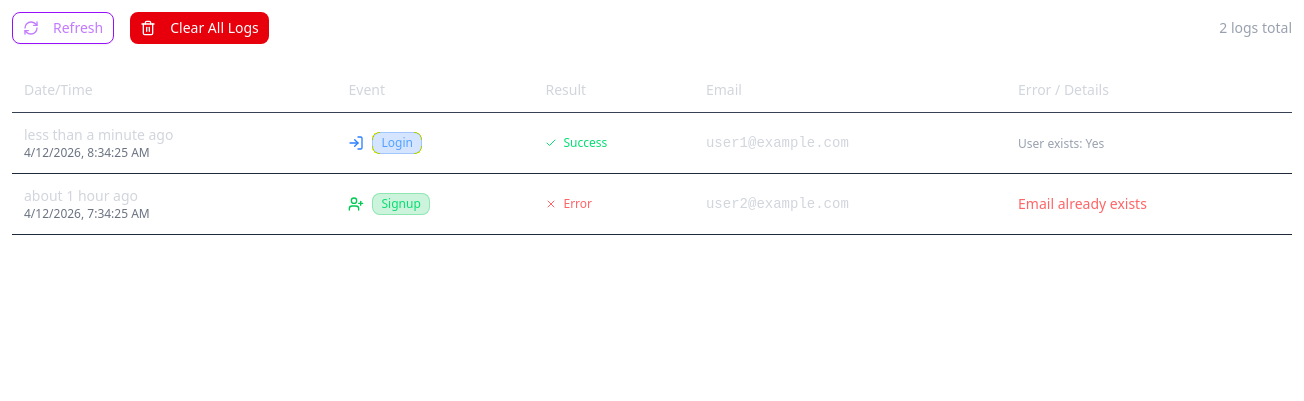
Test: DebugDashboard › should expand and collapse log rows when clicked
This screenshot has width=1304, height=401.
Check: the text "user1@example.com" is shown, box top-left (706, 135), bottom-right (849, 151)
Click the text "user1@example.com" at (652, 143), box top-left (12, 112), bottom-right (1292, 174)
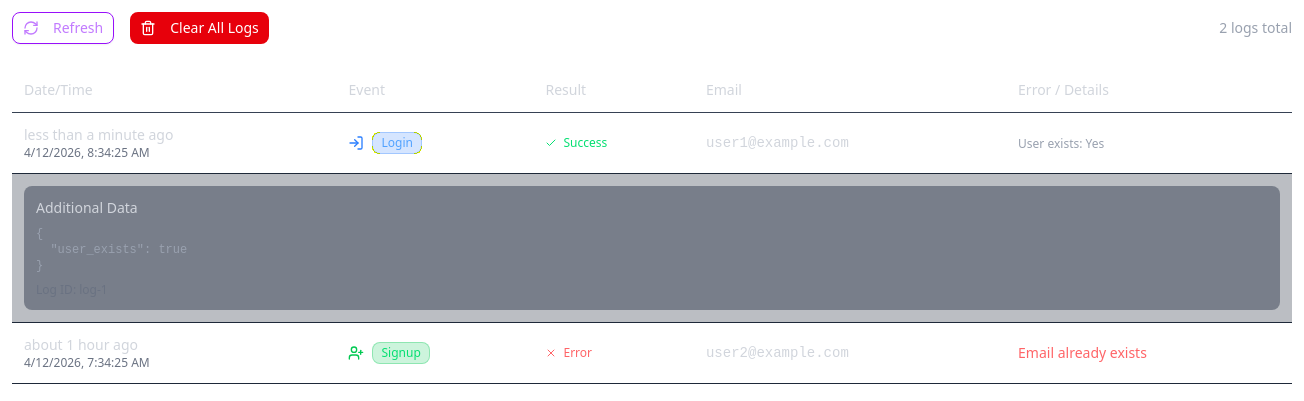
Check: the text "Additional Data" is shown, box top-left (36, 198), bottom-right (138, 217)
Click the text "user1@example.com" at (652, 143), box top-left (12, 112), bottom-right (1292, 174)
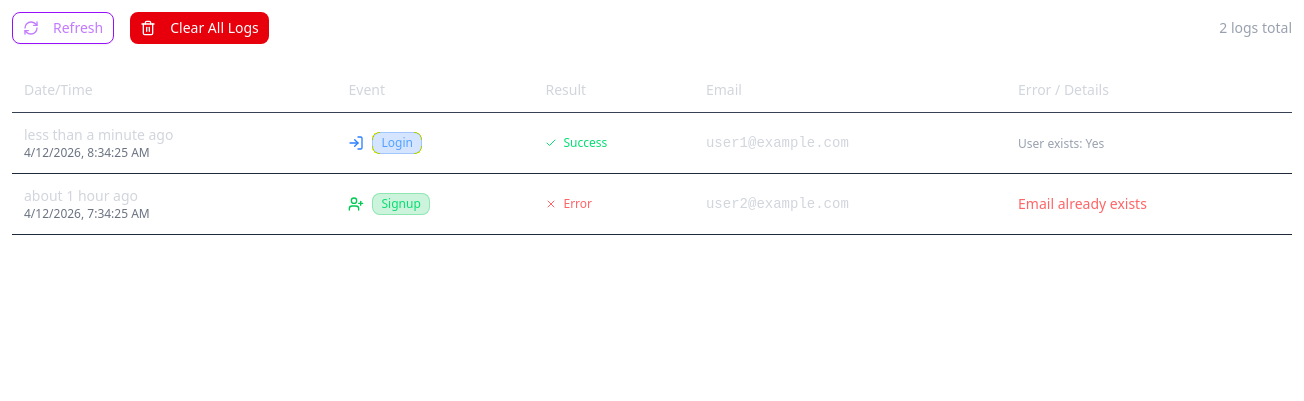
Check: the text "Additional Data" is gone
